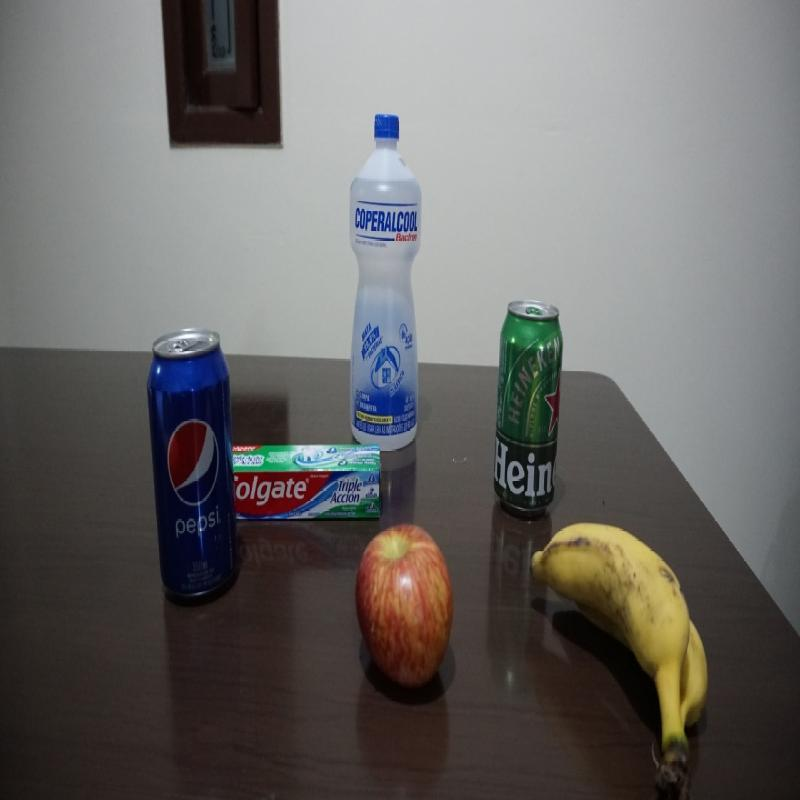Alcohol Bottle: (345, 110, 423, 451)
Apple: (355, 524, 454, 695)
Banana: (526, 521, 718, 798)
Beer can: (491, 298, 564, 520)
Soda can: (146, 325, 241, 604)
Toothpaste: (228, 442, 384, 523)
